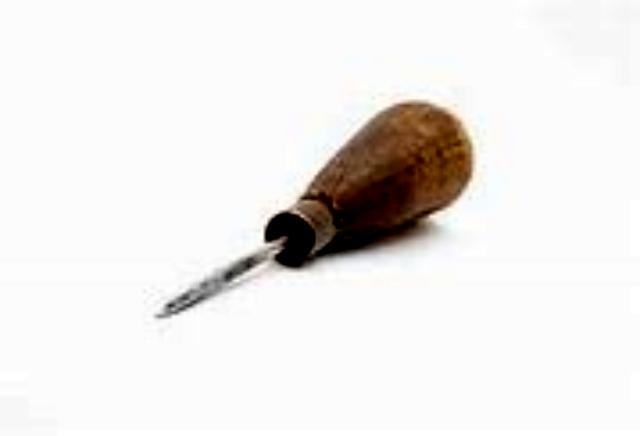ice pick: (164, 93, 476, 311)
